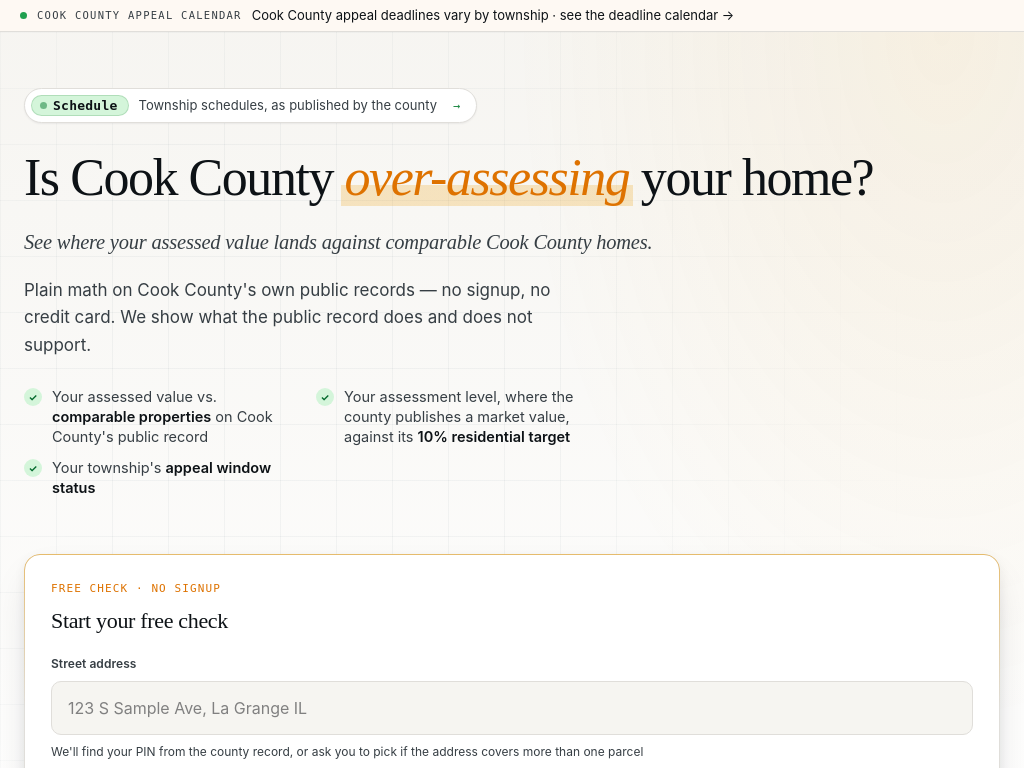
it: jsdom: the homepage keeps the report's figures through normalization › renders the same brief, IDs and disclosures as /check
The width and height of the screenshot is (1024, 768).
Type "1234 N Sample St, Chicago IL 60600" into the field with placeholder "123 S Sample Ave, La Grange IL" at (512, 708), box 51,681 -> 973,735
(page scrolled)
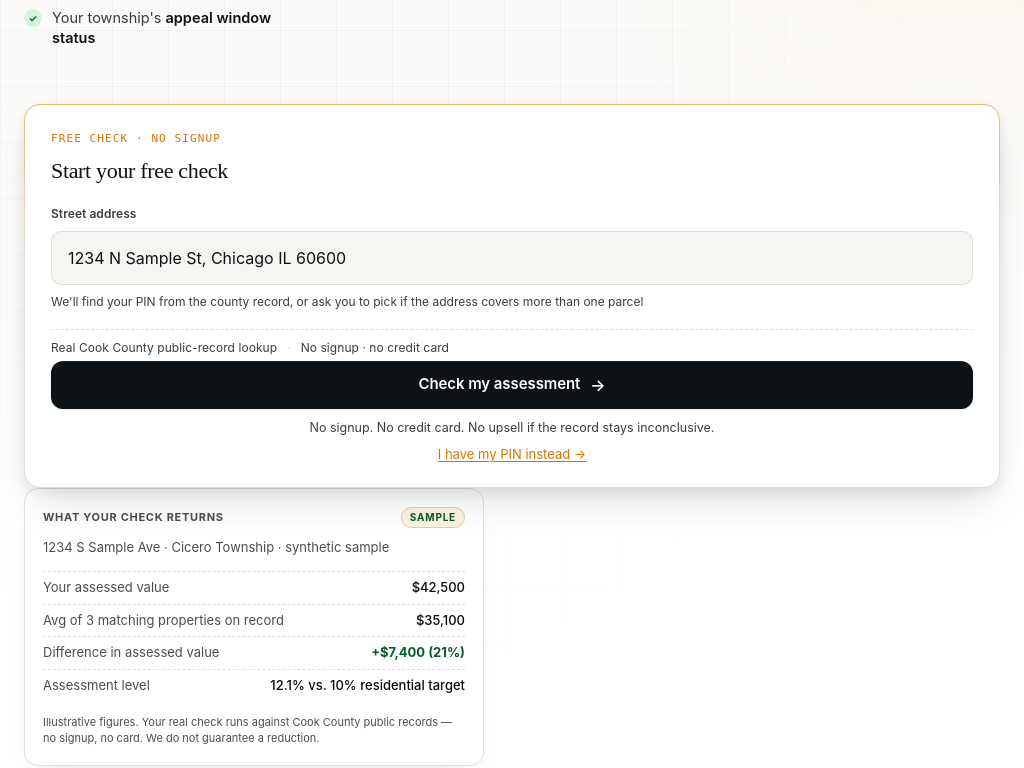
Click the button "Check my assessment →" at (512, 384), box 51,360 -> 973,408
(page scrolled)
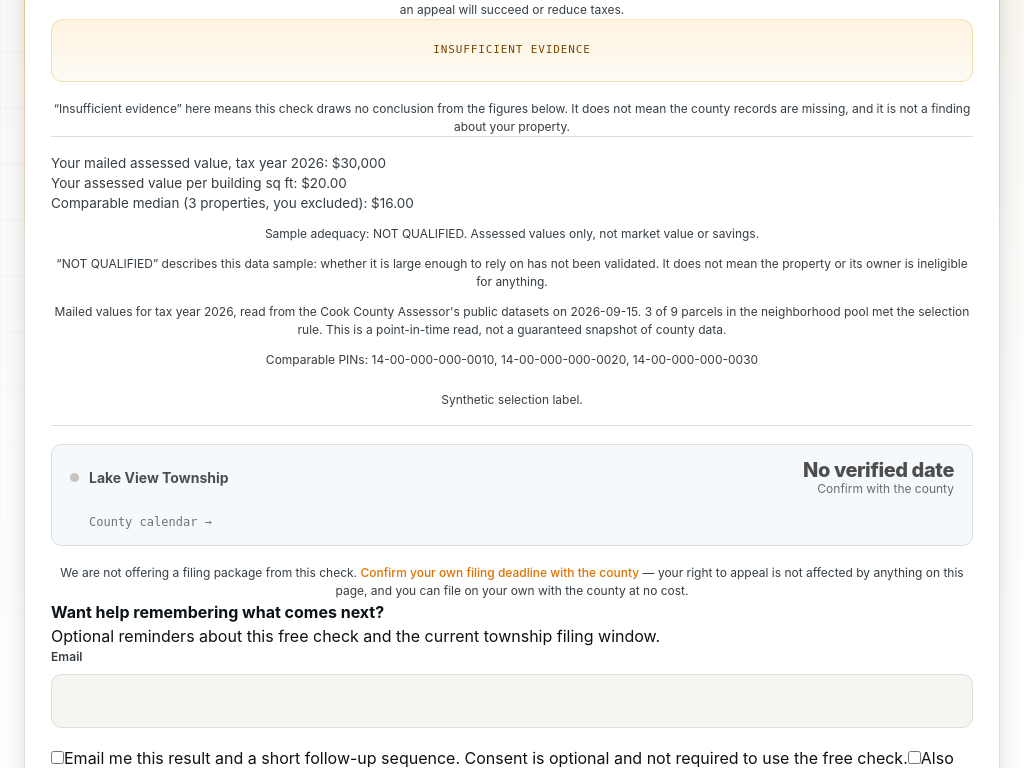
Now the text "Your mailed assessed value, tax year 2026: $30,000" is shown, box 51,153 -> 386,173
Now the element with class "ot-check-result" shows "Your assessed value per building sq ft: $20.00", box 51,175 -> 347,191
